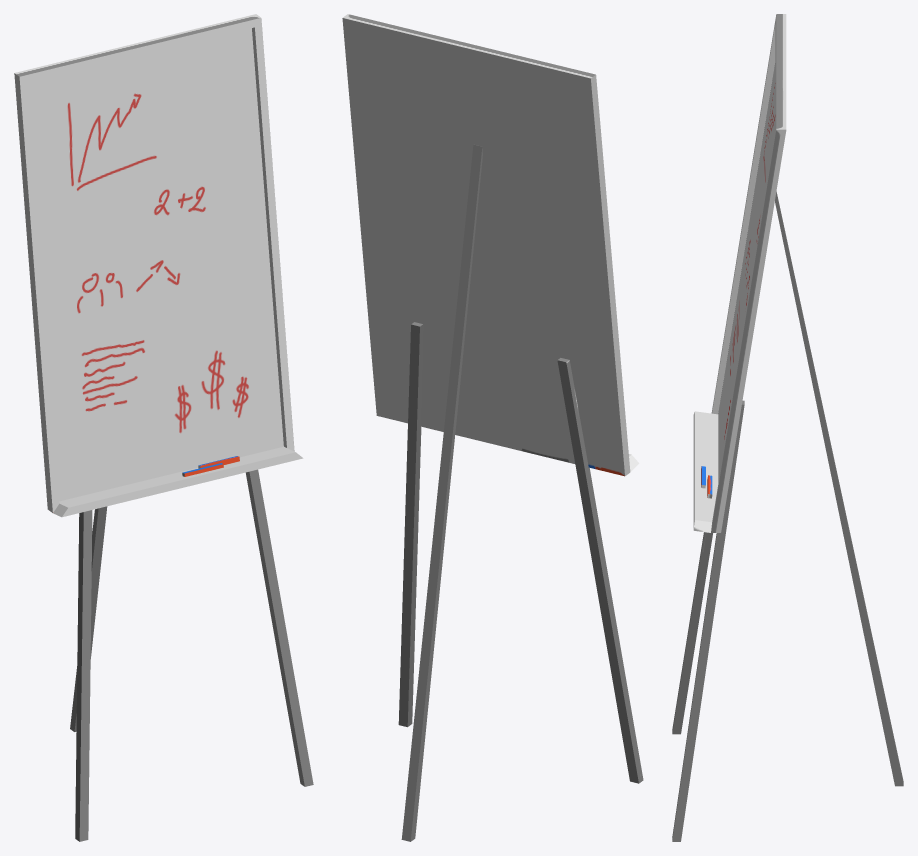
Rendered from tablica.glb.
The picture shows the model from 3 angles, left to right: view 1: azimuth 30°, elevation 25°; view 2: azimuth 150°, elevation 25°; view 3: azimuth 270°, elevation 25°; orthographic projection. The views are drawn at different scales.
Parts seen in each view (by area): view 1: Cube.052; view 2: Cube.052; view 3: Cube.052.
Boxes of the visible parts, left/top/right/bottom form: Cube.052: left=14, top=14, right=313, bottom=841; Cube.052: left=342, top=14, right=643, bottom=841; Cube.052: left=672, top=14, right=903, bottom=841.
Size of the model in its own units: 1.8 by 5.16 by 1.52.
Materials: 1 (1 with a texture image).
